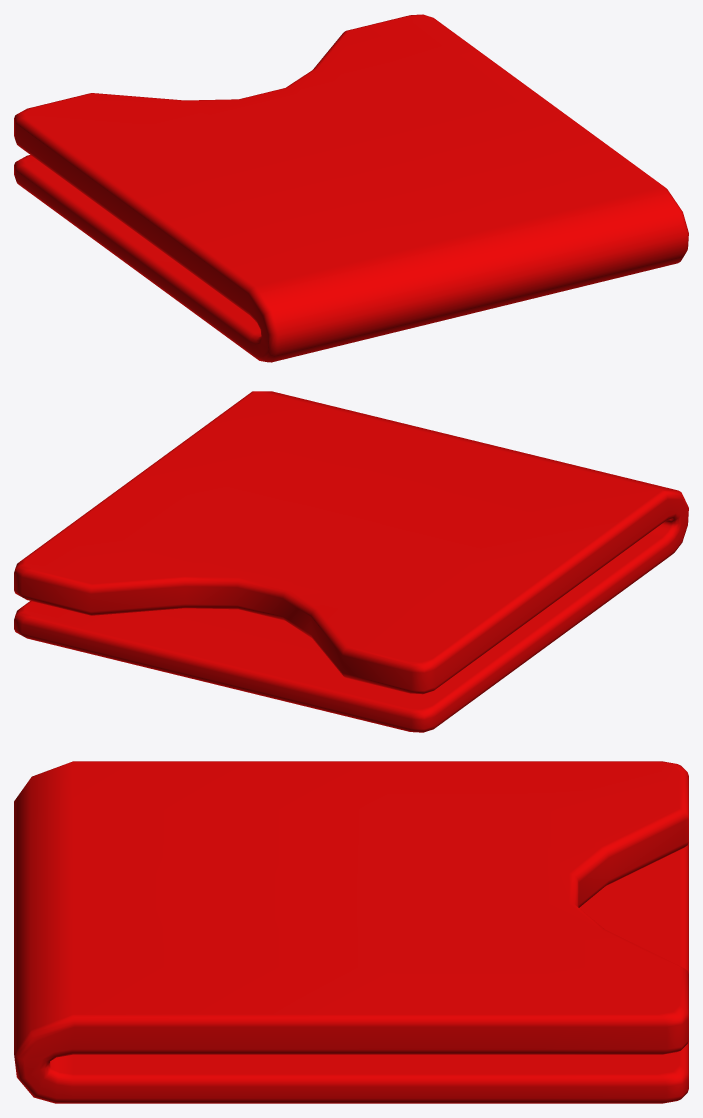
Rendered from DRESS__ FLOLDIN G.fbx.
3 views of the same model, one above another, from view 1: azimuth 30°, elevation 25°; view 2: azimuth 150°, elevation 25°; view 3: azimuth 270°, elevation 25° (orthographic). The views are drawn at different scales.
Parts seen in each view (by area): view 1: polySurface2; view 2: polySurface2; view 3: polySurface2.
Part boxes in pixels (left/top/right/bottom): polySurface2: left=14, top=14, right=688, bottom=362; polySurface2: left=14, top=391, right=688, bottom=732; polySurface2: left=14, top=761, right=688, bottom=1103.
Size of the model in its own units: 8.02 by 1.27 by 8.79.
